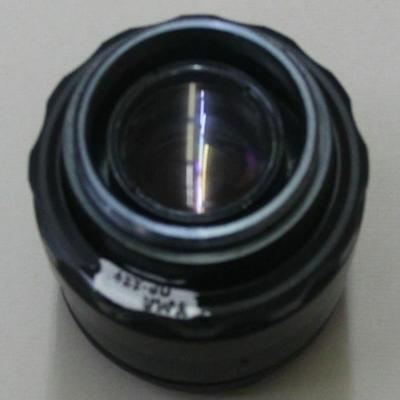technique: (28, 14, 370, 393)
